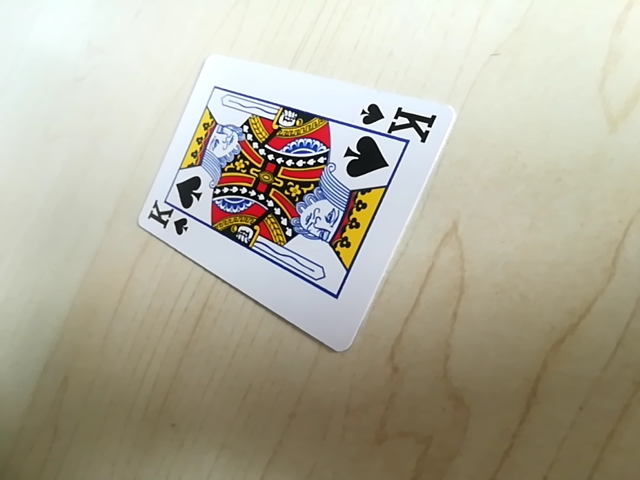ht k: (353, 100, 440, 137), (143, 201, 192, 240)
